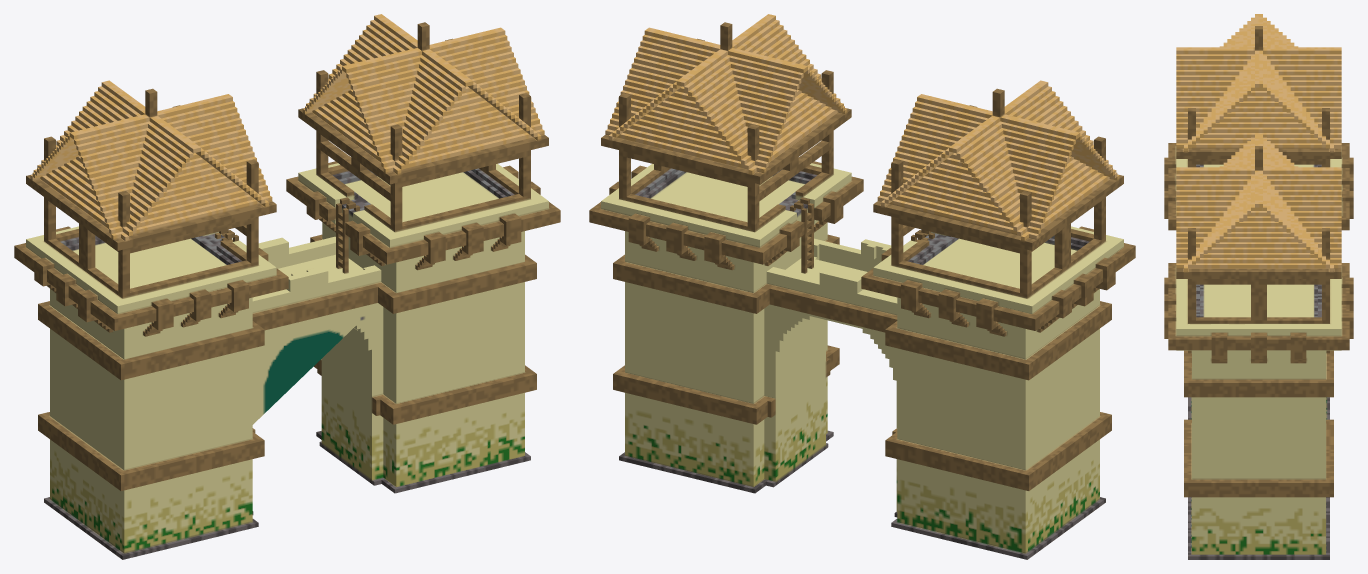
The model's file is Wall_Entrance.obj.
3 renders of one model, left to right at view 1: azimuth 30°, elevation 25°; view 2: azimuth 150°, elevation 25°; view 3: azimuth 270°, elevation 25°, orthographic. The views are drawn at different scales.
Parts seen in each view (by area): view 1: Wall_Entrance_Medieval_Assets-41.001; view 2: Wall_Entrance_Medieval_Assets-41.001; view 3: Wall_Entrance_Medieval_Assets-41.001.
Boxes of the visible parts, box(x1,y1,x2,y2) form: Wall_Entrance_Medieval_Assets-41.001: box(14, 14, 560, 559); Wall_Entrance_Medieval_Assets-41.001: box(589, 14, 1135, 559); Wall_Entrance_Medieval_Assets-41.001: box(1164, 14, 1353, 559).
Bounding box in the file's own units: 12 × 10.7 × 4.8.
Materials: 1 (1 with a texture image).
